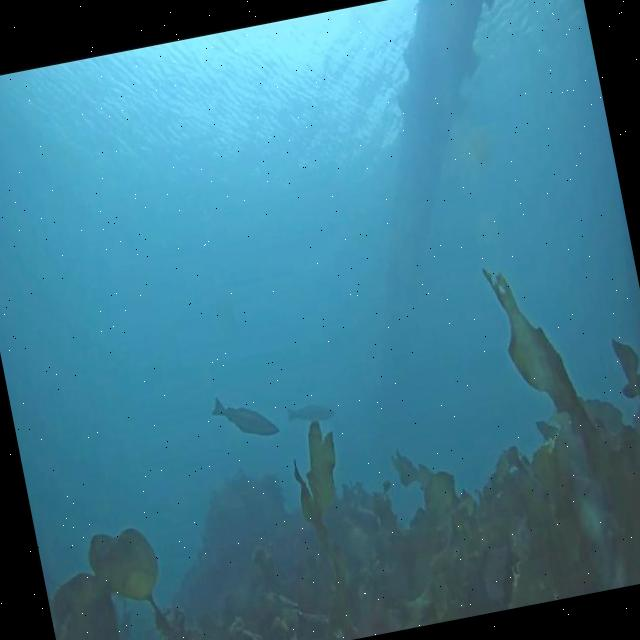fish: (206, 377, 283, 455), (280, 392, 340, 432)
